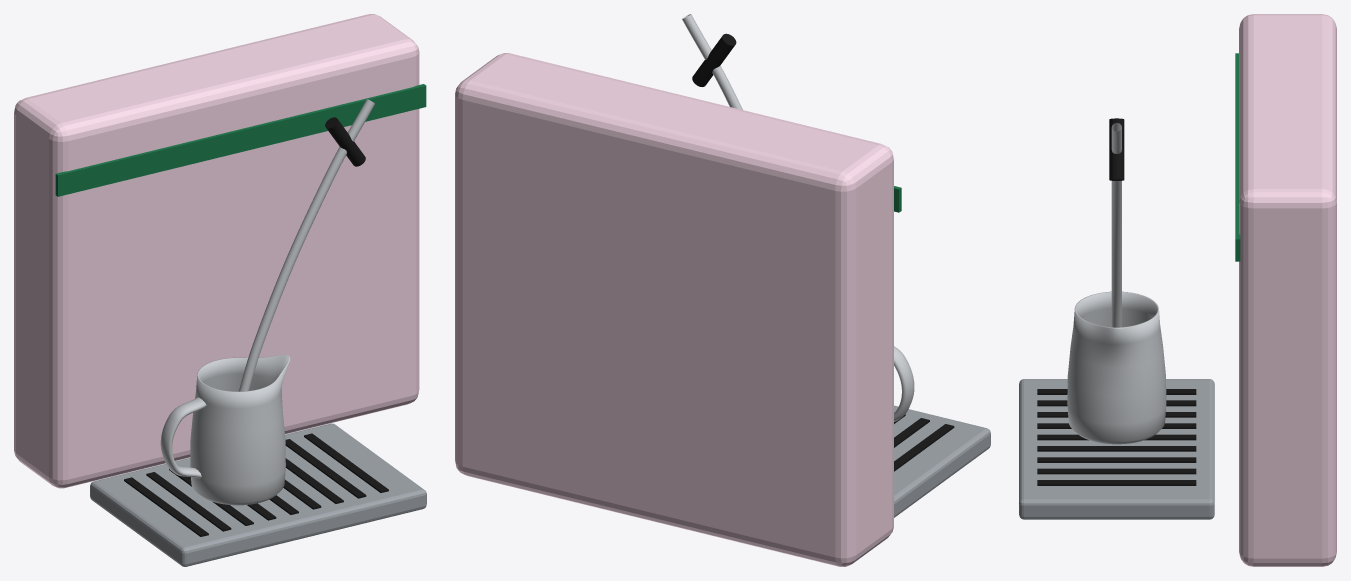
The model's file is kralj-pare.glb.
3 renders of one model, left to right at view 1: azimuth 30°, elevation 25°; view 2: azimuth 150°, elevation 25°; view 3: azimuth 270°, elevation 25°, orthographic. The views are drawn at different scales.
Visible parts, largest first — view 1: Masina, Posuda, Latijera, MasinaTraka, Stimer, Rucka, Prorez1, Prorez0, StimerGuma, Prorez8, Prorez7, Prorez6; view 2: Masina, Posuda, Stimer, StimerGuma, Rucka; view 3: Masina, Posuda, Latijera, Stimer, Prorez7, Prorez5, Prorez6, Prorez8, MasinaTraka, StimerGuma, Prorez4, Prorez1 (+1 smaller).
Boxes of the visible parts, bbox=[...] form: Masina: bbox=[14, 14, 419, 488]; Posuda: bbox=[90, 423, 426, 566]; Latijera: bbox=[190, 354, 290, 505]; MasinaTraka: bbox=[55, 84, 426, 196]; Stimer: bbox=[239, 99, 374, 391]; Rucka: bbox=[160, 397, 206, 478]; Prorez1: bbox=[146, 472, 231, 531]; Prorez0: bbox=[124, 477, 208, 536]; StimerGuma: bbox=[325, 117, 365, 166]; Prorez8: bbox=[304, 433, 388, 492]; Prorez7: bbox=[285, 439, 366, 498]; Prorez6: bbox=[285, 458, 343, 503]; Masina: bbox=[455, 53, 893, 566]; Posuda: bbox=[894, 405, 990, 517]; Stimer: bbox=[682, 14, 742, 109]; StimerGuma: bbox=[692, 33, 736, 86]; Rucka: bbox=[894, 346, 914, 421]; Masina: bbox=[1239, 14, 1336, 566]; Posuda: bbox=[1019, 379, 1214, 519]; Latijera: bbox=[1067, 291, 1166, 444]; Stimer: bbox=[1111, 123, 1121, 327]; Prorez7: bbox=[1037, 468, 1196, 474]; Prorez5: bbox=[1037, 446, 1196, 451]; Prorez6: bbox=[1037, 457, 1196, 462]; Prorez8: bbox=[1037, 480, 1196, 485]; MasinaTraka: bbox=[1235, 53, 1240, 261]; StimerGuma: bbox=[1109, 118, 1124, 180]; Prorez4: bbox=[1037, 434, 1196, 440]; Prorez1: bbox=[1037, 400, 1196, 406].
Size of the model in its own units: 0.36 by 0.3533 by 0.26.
